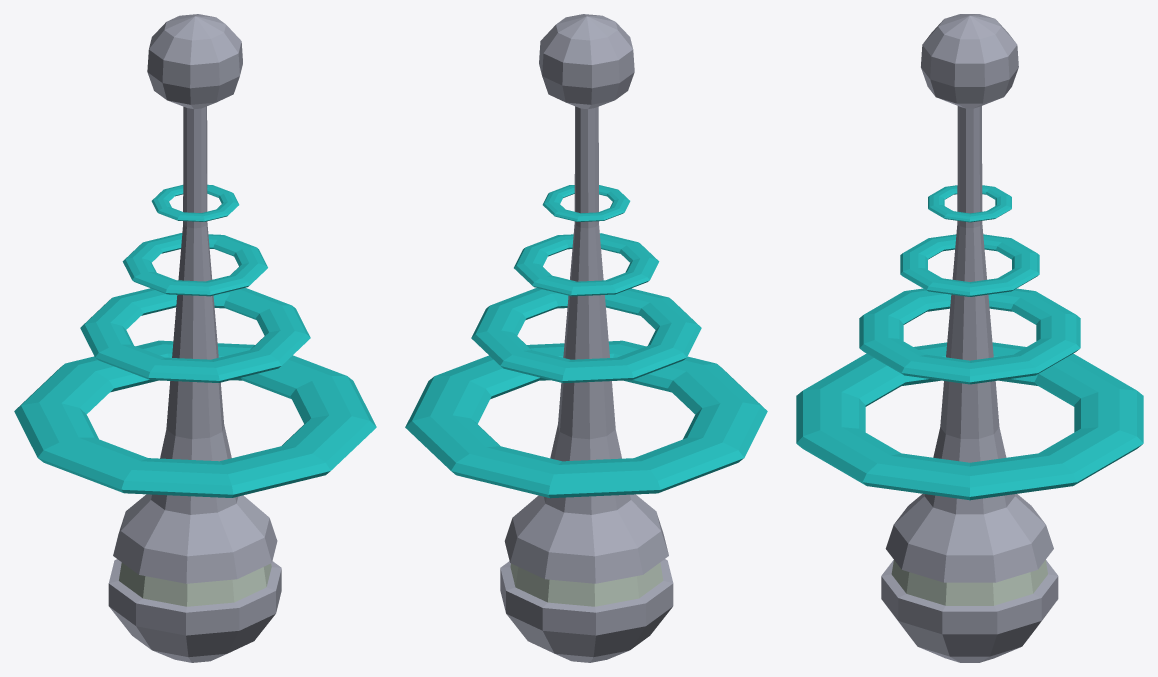
File: zapper.fbx
3 renders of one model, left to right at view 1: azimuth 30°, elevation 25°; view 2: azimuth 150°, elevation 25°; view 3: azimuth 270°, elevation 25°, orthographic.
Visible parts, largest first — view 1: Zappy thing; view 2: Zappy thing; view 3: Zappy thing.
Boxes of the visible parts, bbox=[...] form: Zappy thing: bbox=[14, 14, 376, 662]; Zappy thing: bbox=[405, 14, 767, 662]; Zappy thing: bbox=[796, 14, 1143, 662].
Size of the model in its own units: 257 by 493 by 244.
